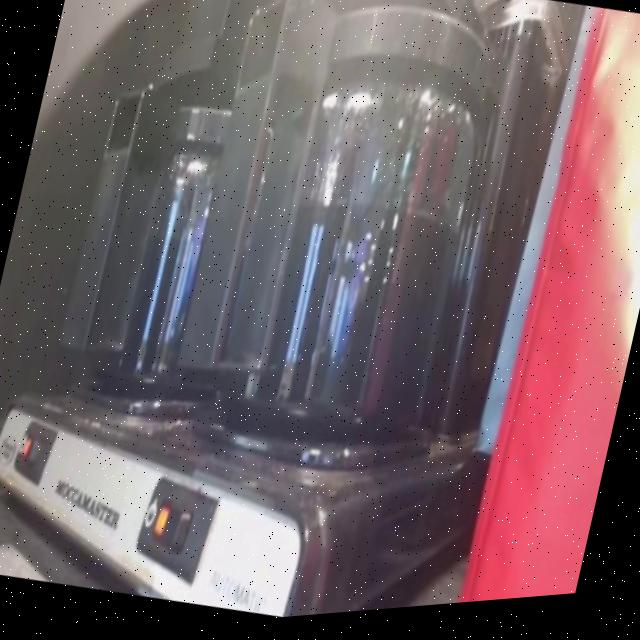coffee: (182, 0, 521, 492), (46, 51, 296, 431)
